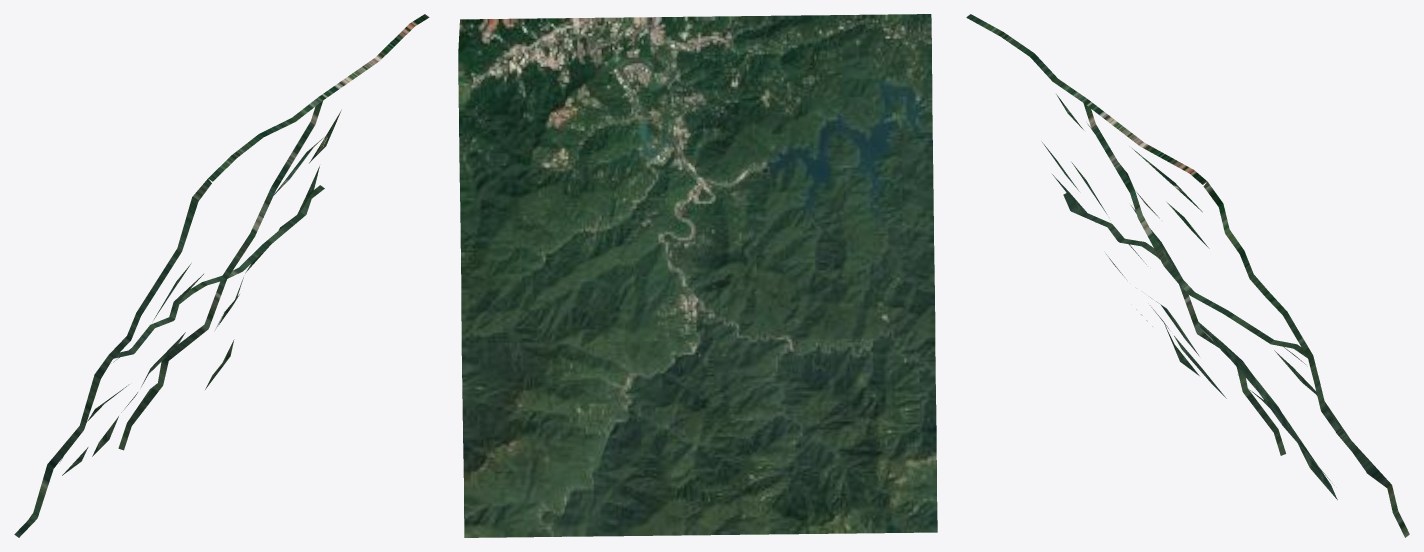
3 views of the same model, side by side, from view 1: azimuth 30°, elevation 25°; view 2: azimuth 150°, elevation 25°; view 3: azimuth 270°, elevation 25° (orthographic). The views are drawn at different scales.
Bounding box in the file's own units: 19957 × 17952 × 17256.
Materials: 1 (1 with a texture image).
